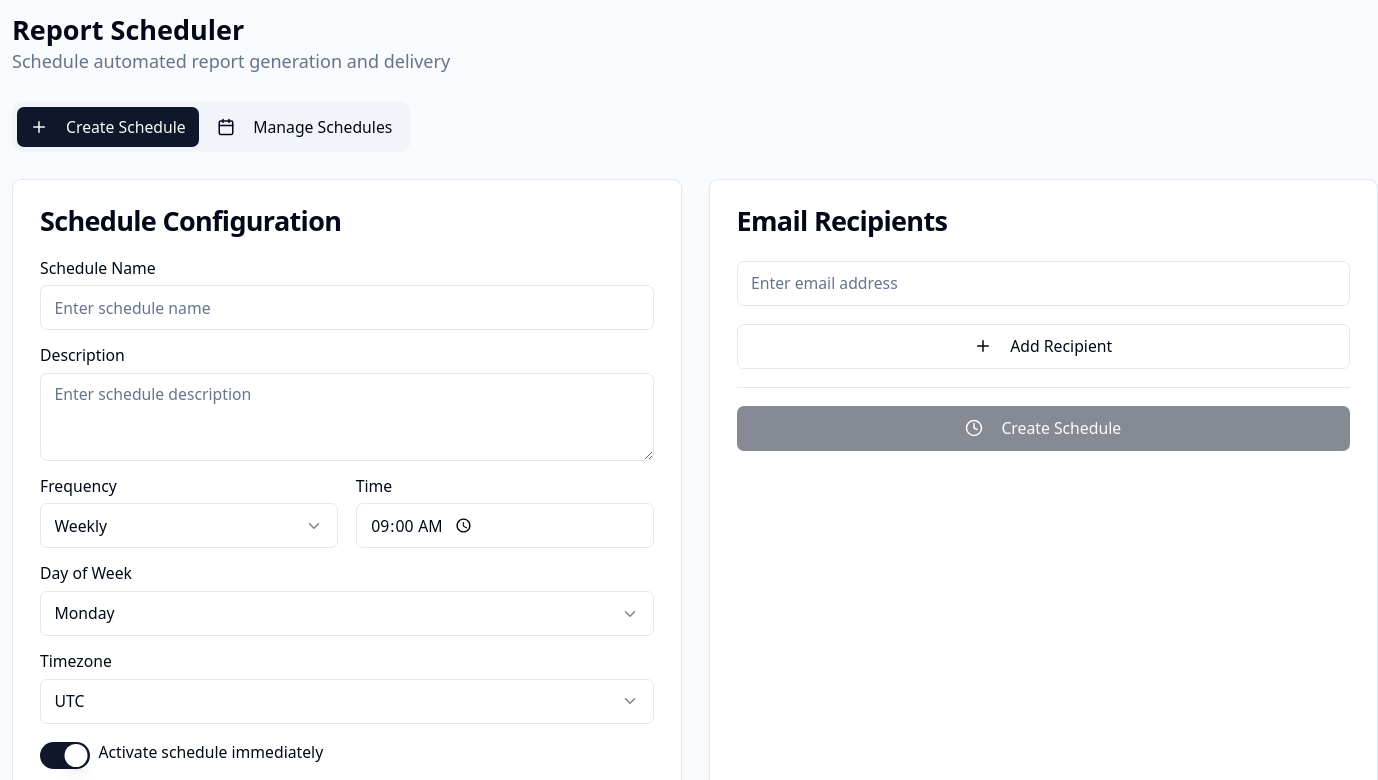
Test: ReportScheduler › shows empty state when no schedules exist
Note: Switch to manage tab
Step 1. Click the button "Manage Schedules" → (305, 127), box [204, 106, 406, 147]
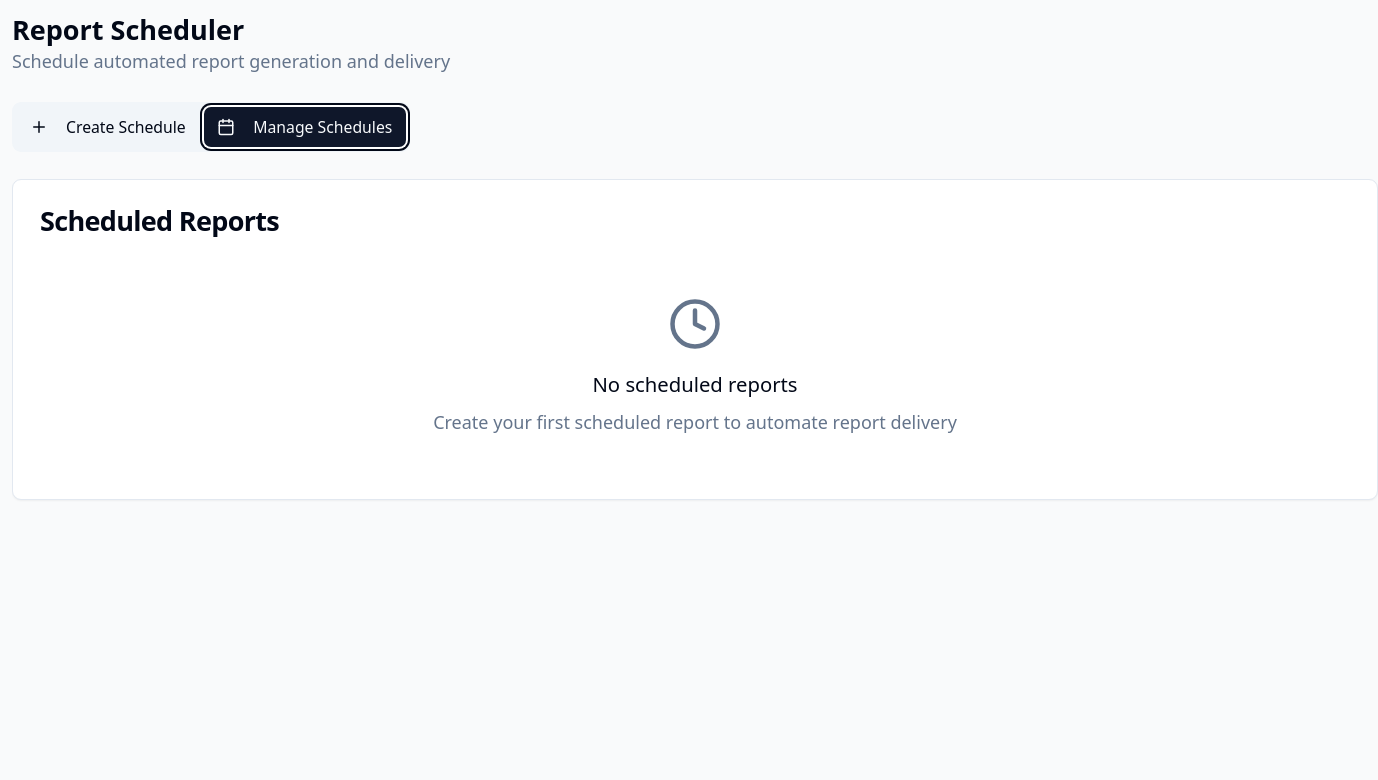
Expected: the heading "No scheduled reports" is shown, [592, 370, 798, 398]
Expected: the text "Create your first scheduled report to automate report delivery" is shown, [433, 410, 957, 434]
